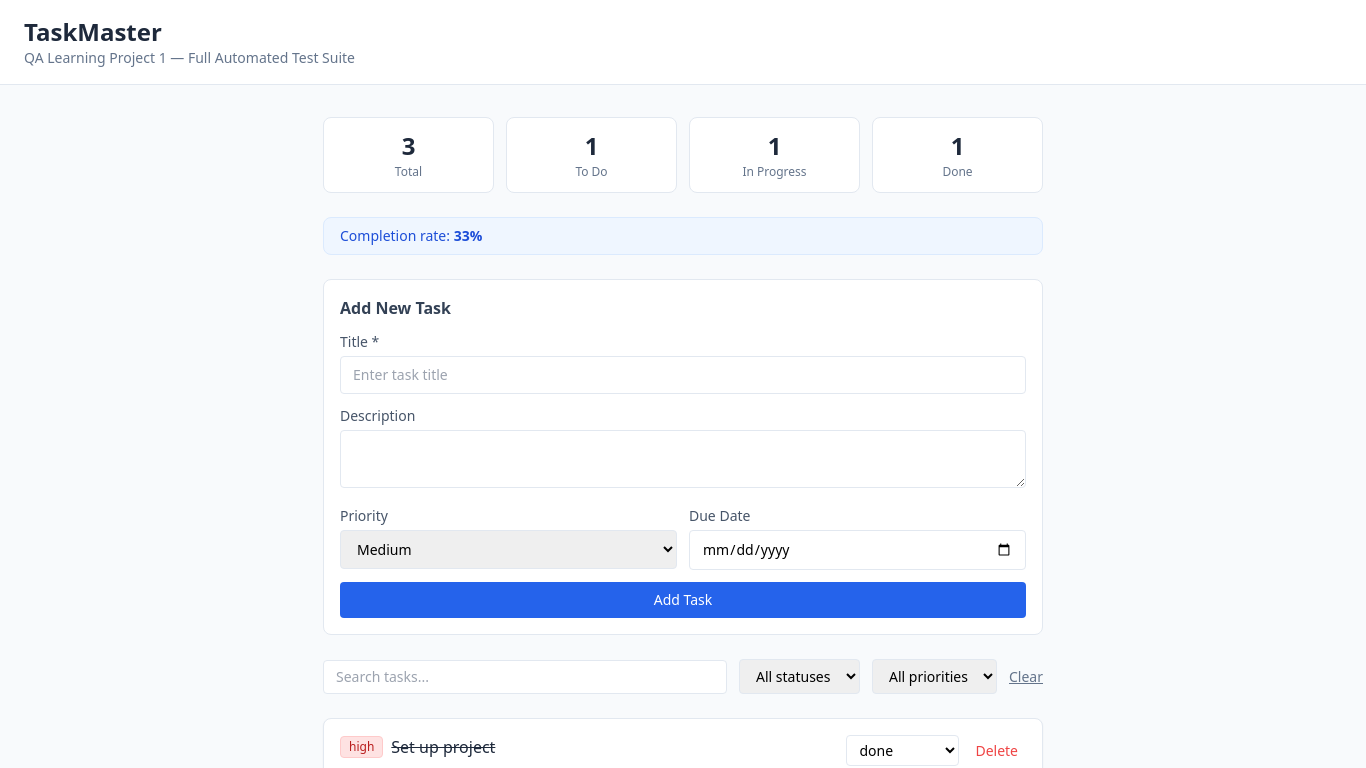
Test: Task management flow › adds a new task and it appears in the list
Check: the heading "Set up project" is shown, box [391,735,495,759]
Type "Brand new task" into the field labelled "Title *" at coordinates (683, 375), box [340,356,1026,394]
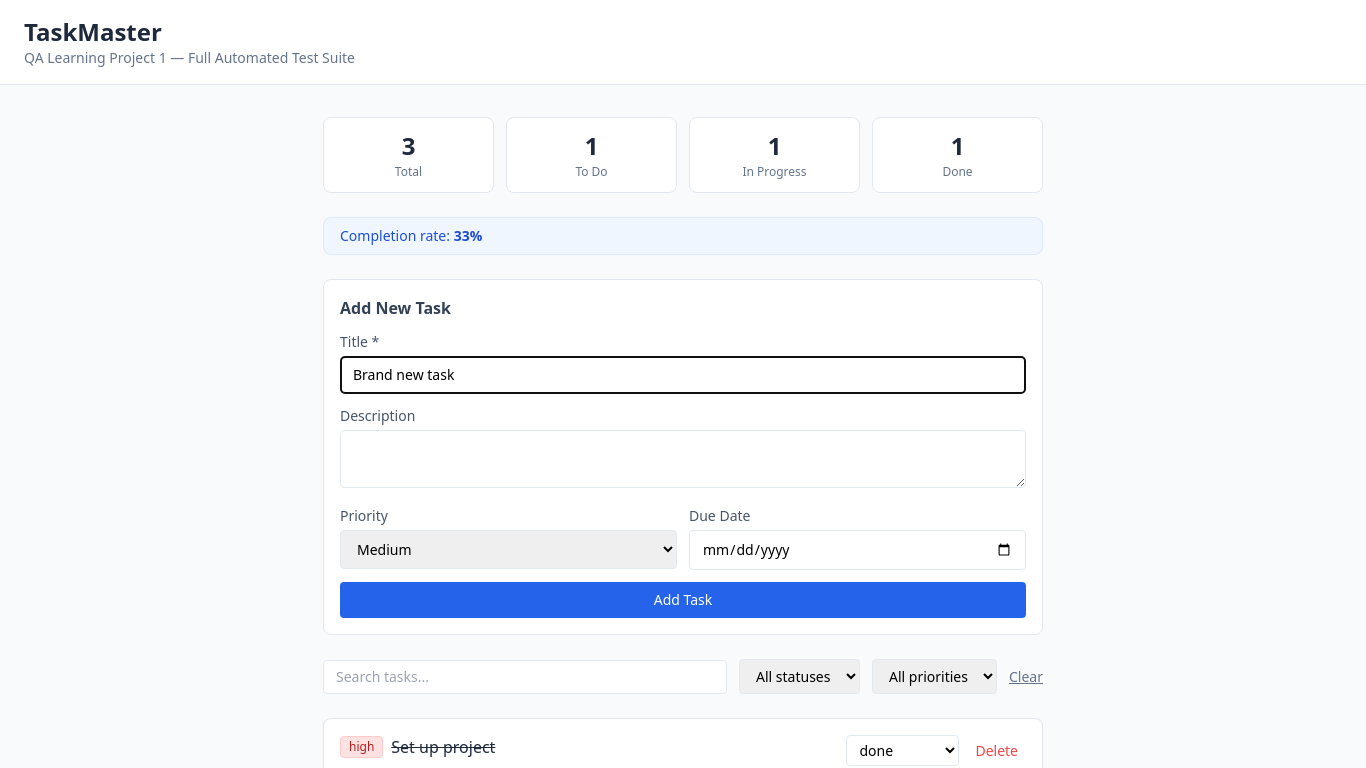
Click the button "Add Task" at coordinates (683, 600), box [340,582,1026,618]
(page scrolled)
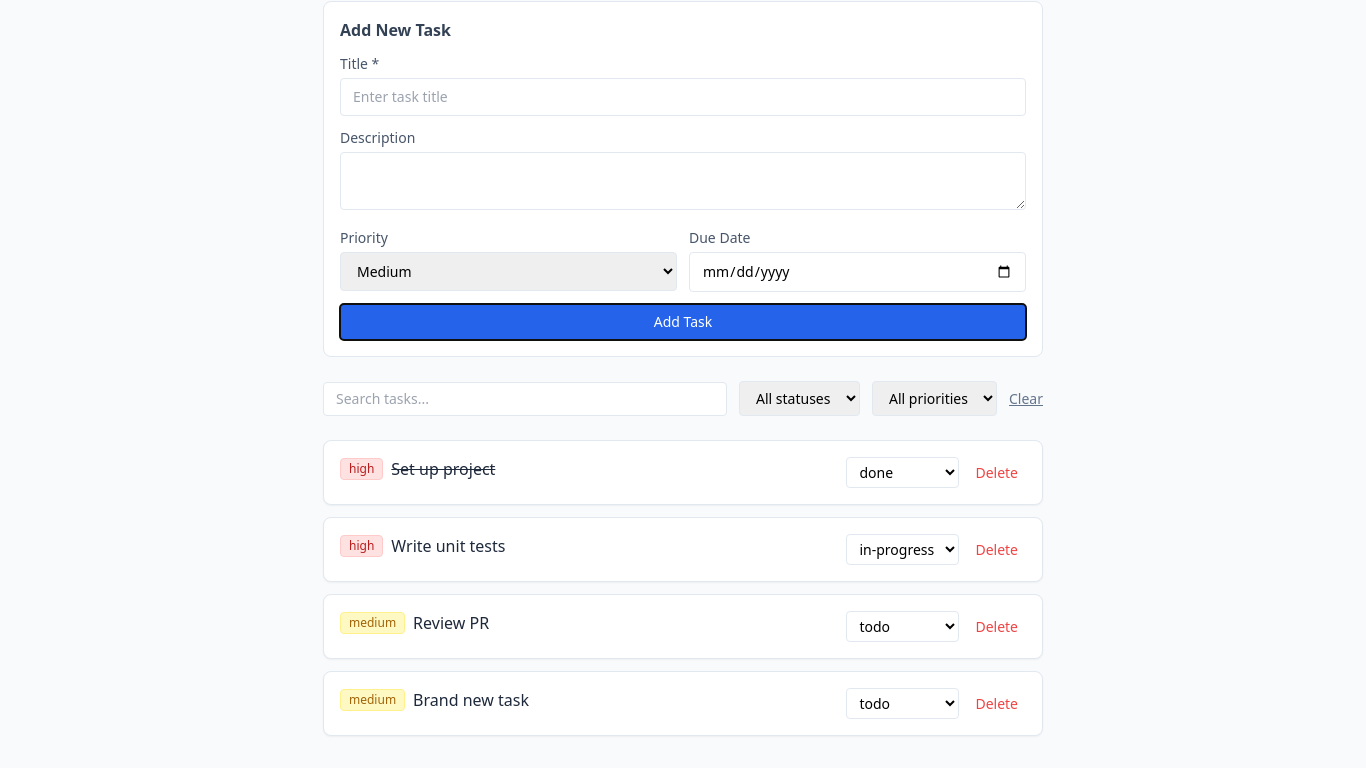
Check: the heading "Brand new task" is shown, box [413,688,529,712]
